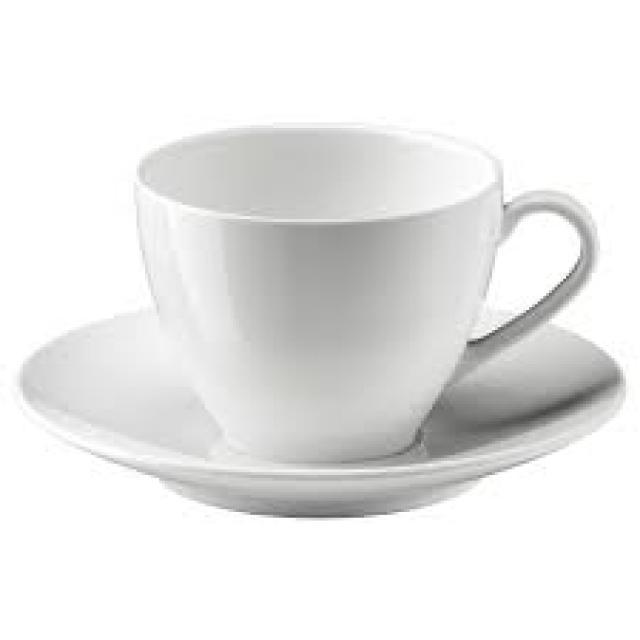taza: (112, 114, 606, 472)
